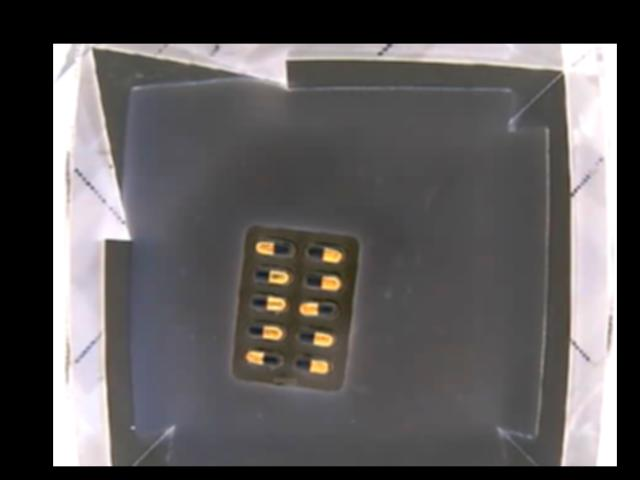Medicine: (231, 222, 361, 392)
